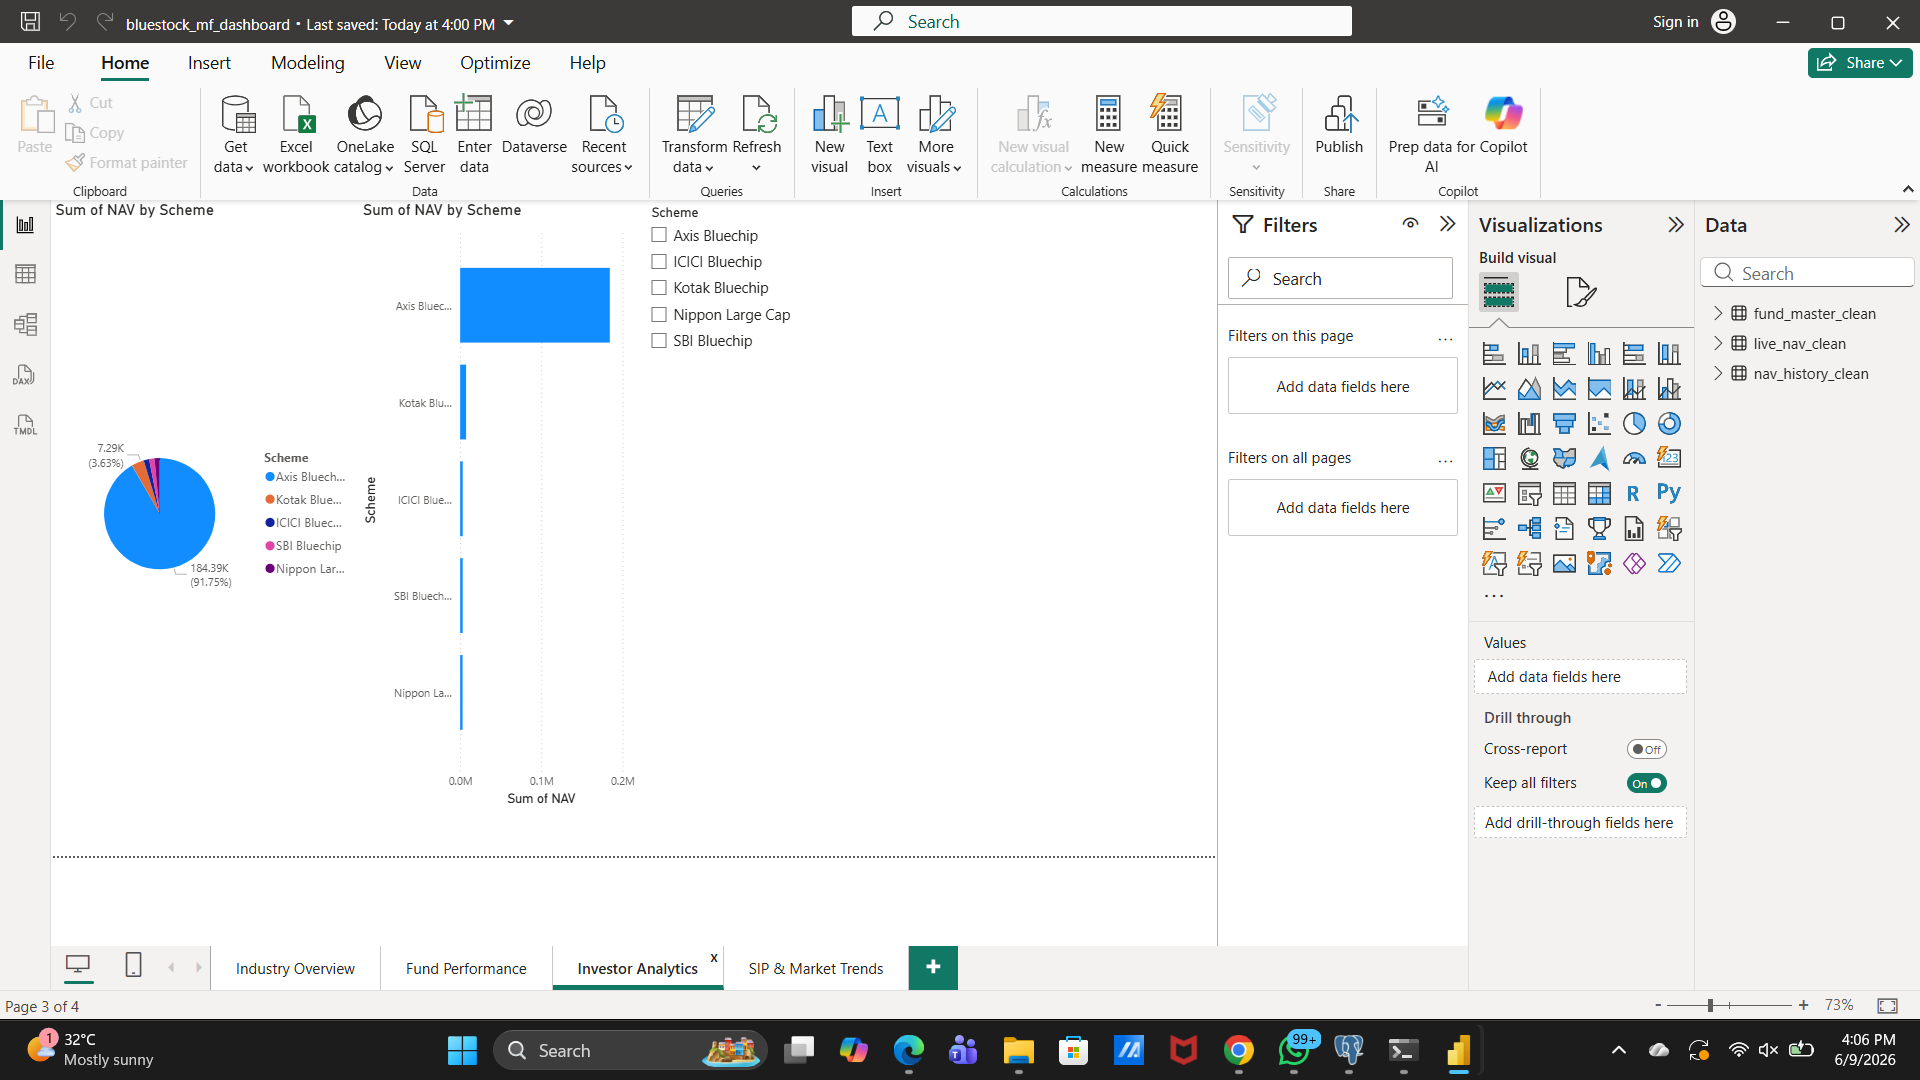

Layout of this report page (visuals, bound fields, positions):
{"tool":"powerbi","page":{"name":"Investor Analytics","canvas":[1280,720],"ordinal":2},"visuals":[{"type":"pieChart","fields":{"Y":["Sum(nav_history_clean.NAV)"],"Category":["nav_history_clean.Scheme"]},"box":[0,0,338,670],"z":0},{"type":"clusteredBarChart","fields":{"Category":["nav_history_clean.Scheme"],"Y":["Sum(nav_history_clean.NAV)"]},"box":[338,0,309,670],"z":1000},{"type":"slicer","fields":{"Values":["nav_history_clean.Scheme"]},"box":[647,0,559,670],"z":2000}]}

Visuals, with their boxes on the page's 1280x720 design canvas (x1, y1, x2, y2). These are canvas units, not pixel positions in the 1920x1080 screenshot, which may show the page scaled, cropped or inside an application window:
pieChart - Sum(nav_history_clean.NAV) x nav_history_clean.Scheme: bbox(0, 0, 338, 670)
clusteredBarChart - nav_history_clean.Scheme x Sum(nav_history_clean.NAV): bbox(338, 0, 647, 670)
slicer - nav_history_clean.Scheme: bbox(647, 0, 1206, 670)
